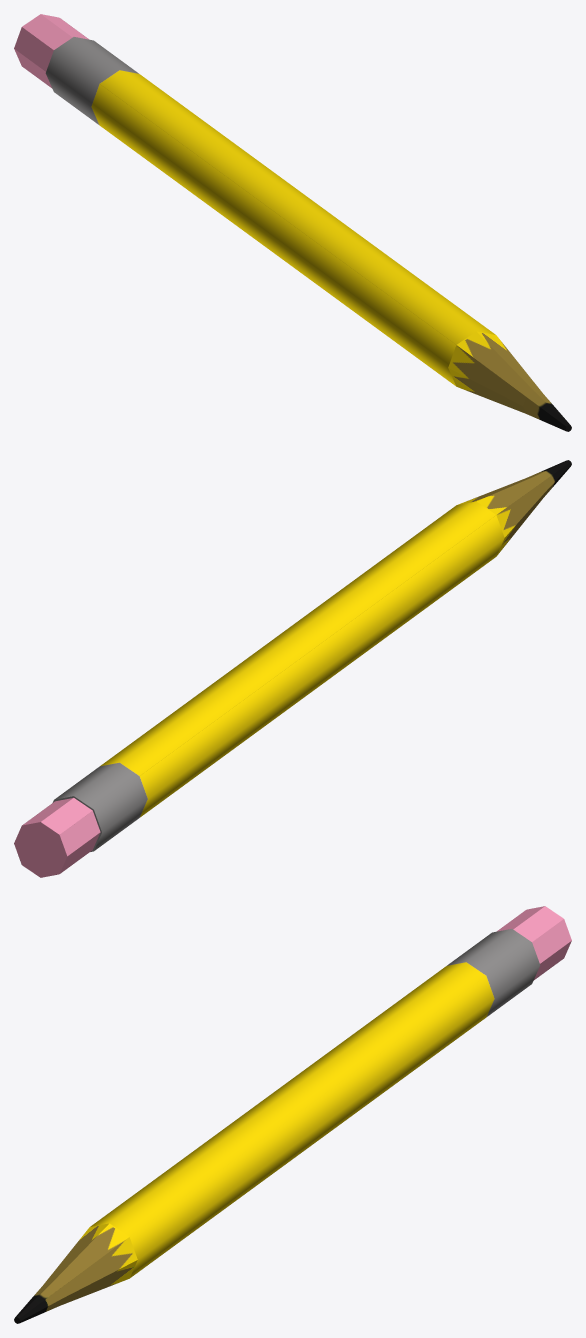
Rendered from pencil.FBX.
The picture shows the model from 3 angles, top to bottom: view 1: azimuth 30°, elevation 25°; view 2: azimuth 150°, elevation 25°; view 3: azimuth 330°, elevation 25°; orthographic projection.
Visible parts, largest first — view 1: pencil; view 2: pencil; view 3: pencil.
Part boxes in pixels (<box>): pencil: <box>14,14,571,431</box>; pencil: <box>14,460,571,877</box>; pencil: <box>14,906,571,1323</box>.
Bounding box in the file's own units: 0.6433 × 0.6433 × 10.41.
